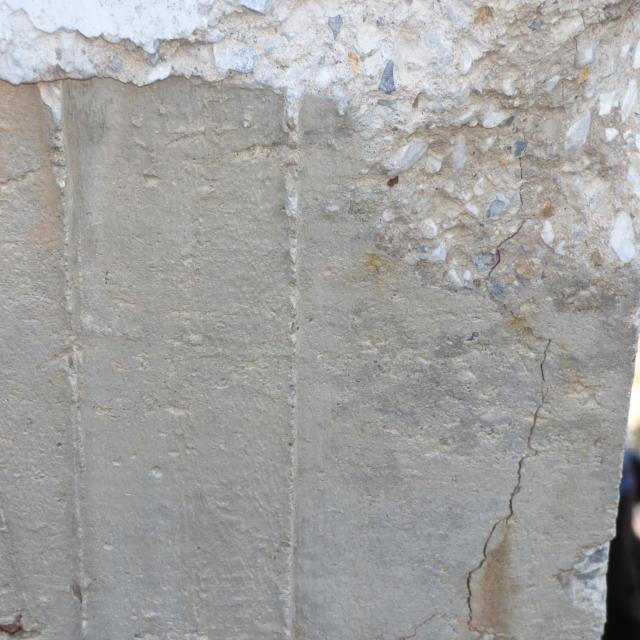corrosion: (1, 603, 36, 640), (386, 167, 404, 193)
